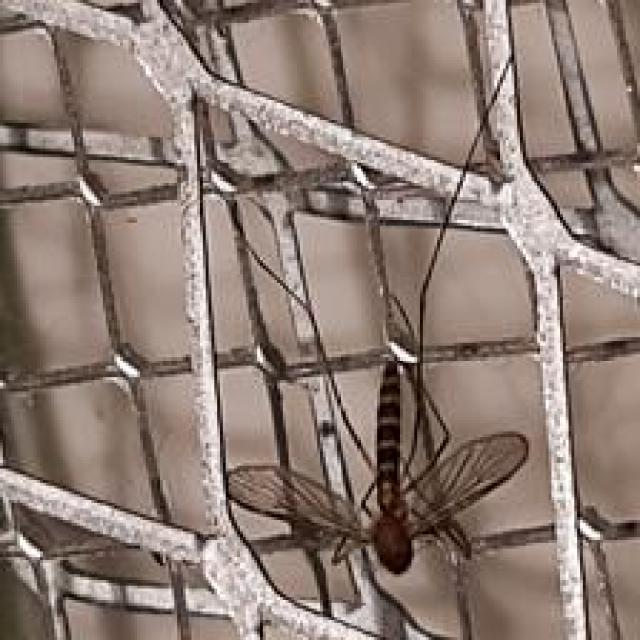Culex: (224, 352, 530, 577)
